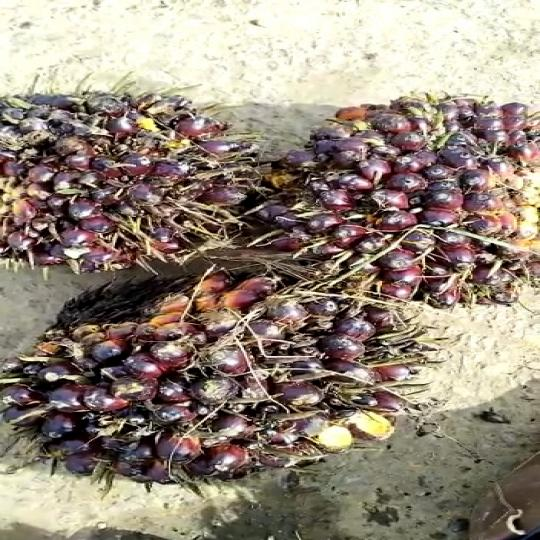kurang masak: (5, 271, 412, 503), (265, 80, 540, 311), (0, 90, 242, 271)
